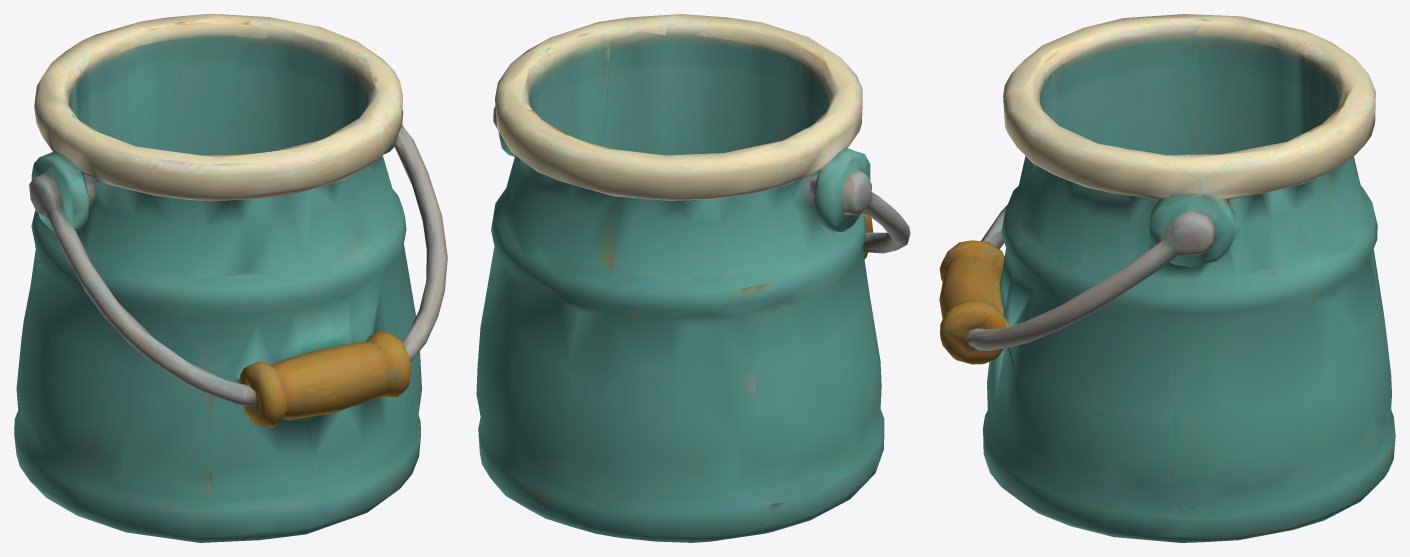
3 renders of one model, left to right at view 1: azimuth 30°, elevation 25°; view 2: azimuth 150°, elevation 25°; view 3: azimuth 270°, elevation 25°, orthographic.
Visible parts, largest first — view 1: bucket; view 2: bucket; view 3: bucket.
Boxes of the visible parts, <box> form: bucket: <box>14,14,447,542</box>; bucket: <box>476,14,910,542</box>; bucket: <box>939,14,1395,542</box>.
Bounding box in the file's own units: 0.3536 × 0.35 × 0.3835.
Materials: 1 (1 with a texture image).
